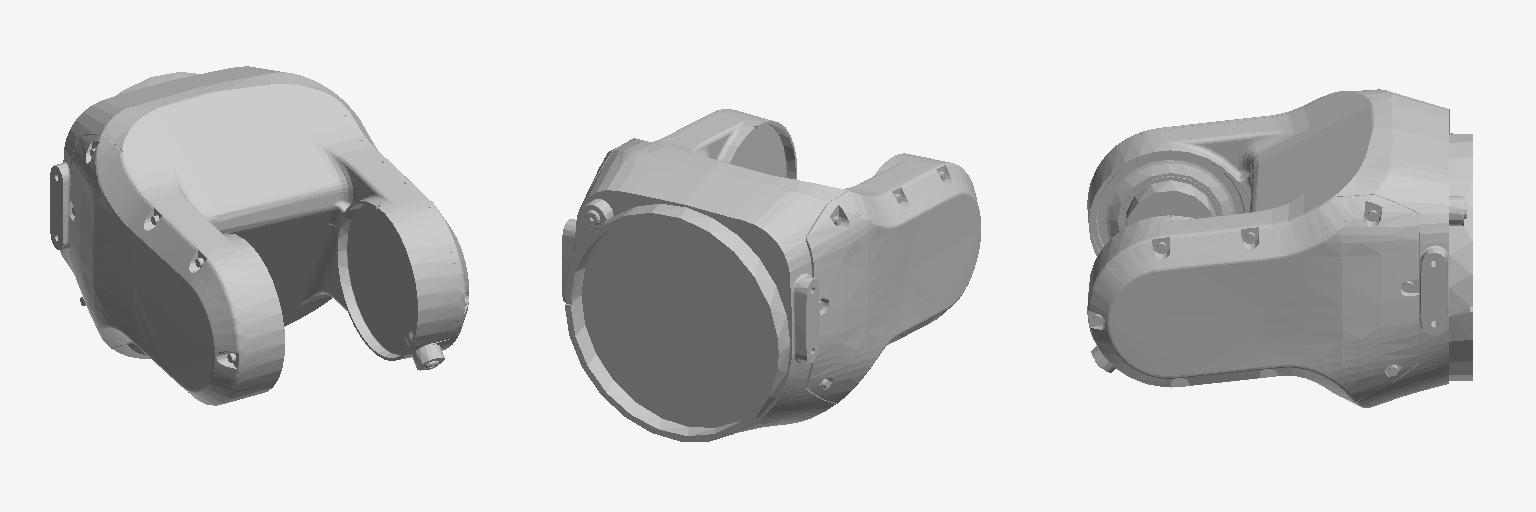
File: RobotLink1_Model.obj
The picture shows the model from 3 angles: view 1: azimuth 30°, elevation 25°; view 2: azimuth 150°, elevation 25°; view 3: azimuth 270°, elevation 25°; orthographic projection.
Bounding box in the file's own units: 182 × 170 × 231.